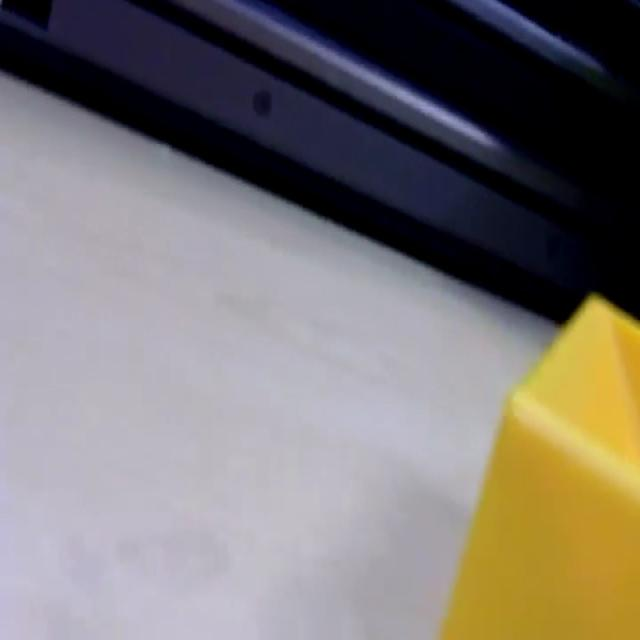yellow_block: (438, 291, 638, 636)
